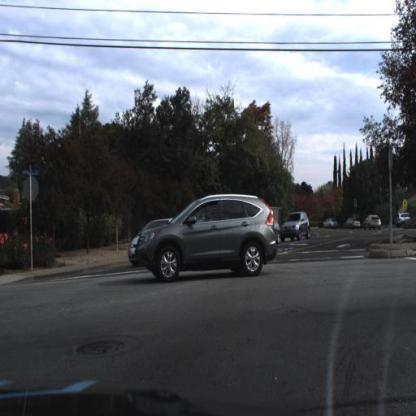car: (136, 191, 278, 286), (127, 215, 171, 272), (280, 206, 314, 244), (395, 206, 411, 232), (345, 216, 363, 232), (364, 213, 382, 229), (323, 216, 340, 231)
